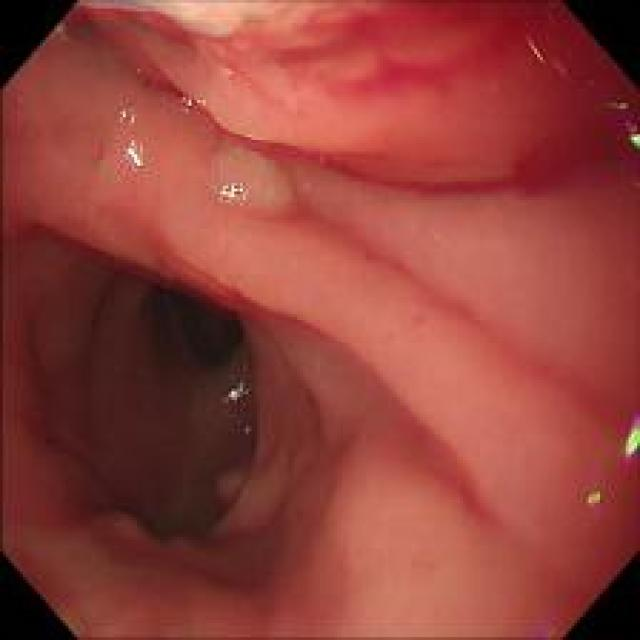color misalignment: (359, 358, 501, 526), (158, 258, 342, 349), (219, 120, 301, 156), (72, 1, 184, 26), (602, 91, 639, 155), (615, 408, 639, 469), (216, 376, 254, 411), (184, 18, 231, 42), (171, 92, 209, 116), (212, 182, 249, 205), (582, 484, 605, 520), (124, 138, 149, 170), (114, 108, 141, 130), (218, 59, 245, 81), (241, 424, 259, 449), (239, 11, 270, 24)
contrast: (41, 254, 251, 532)
specularity: (212, 182, 255, 210), (121, 136, 150, 169), (112, 105, 146, 128), (179, 95, 209, 115)
